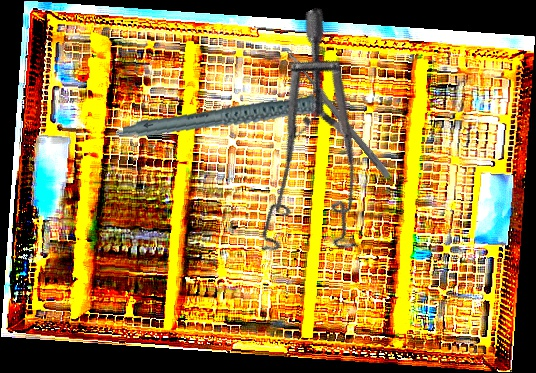Handpiece: (122, 76, 356, 162)
Speculum: (175, 5, 423, 286)
Surgical Spoon: (283, 47, 392, 179)
